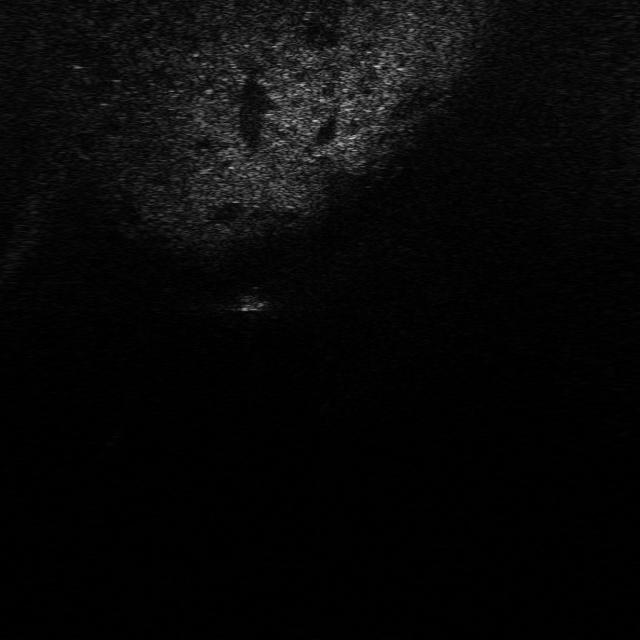cylinder: (227, 285, 271, 314)
